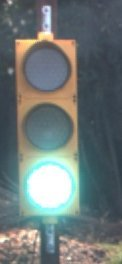Green: (11, 35, 85, 241)
